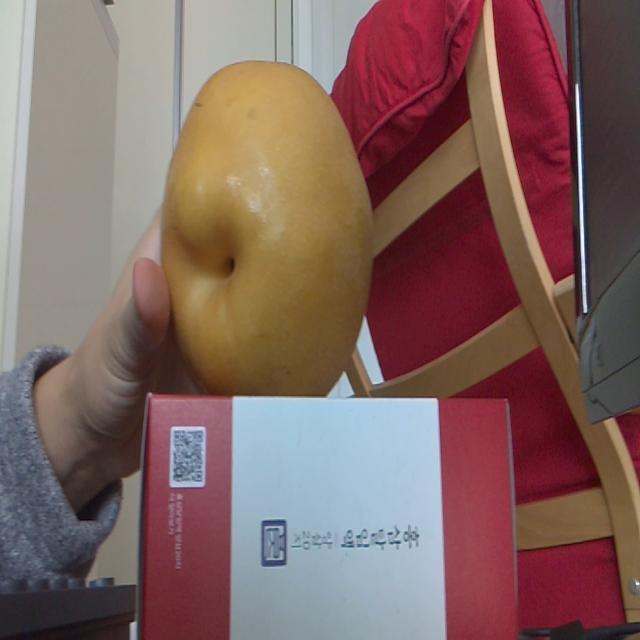pear: (166, 59, 372, 399)
